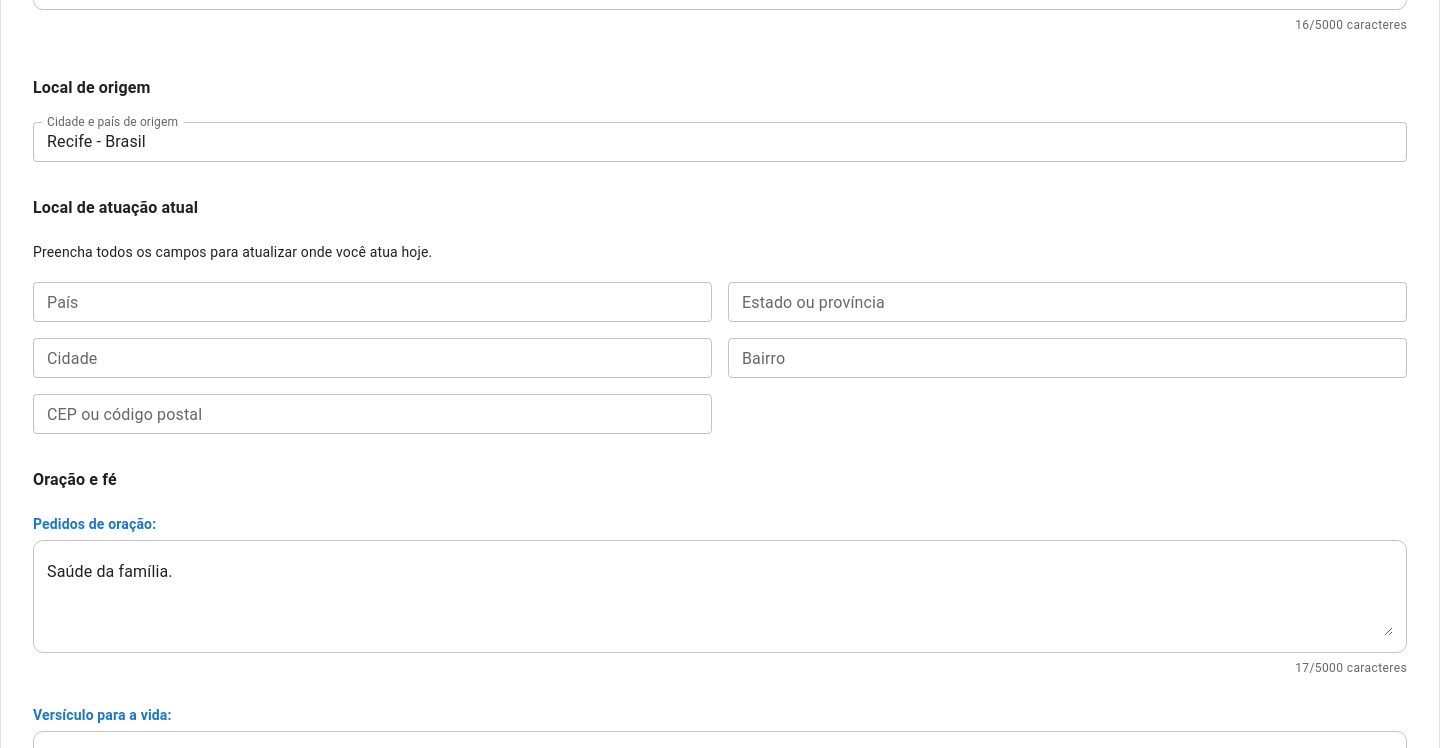
it: ProfileAboutEditSection › requires every work address field once one is filled
(page scrolled)
Type "Lisboa" into the field labelled "Cidade" at (372, 358), box [33, 338, 712, 378]
(page scrolled)
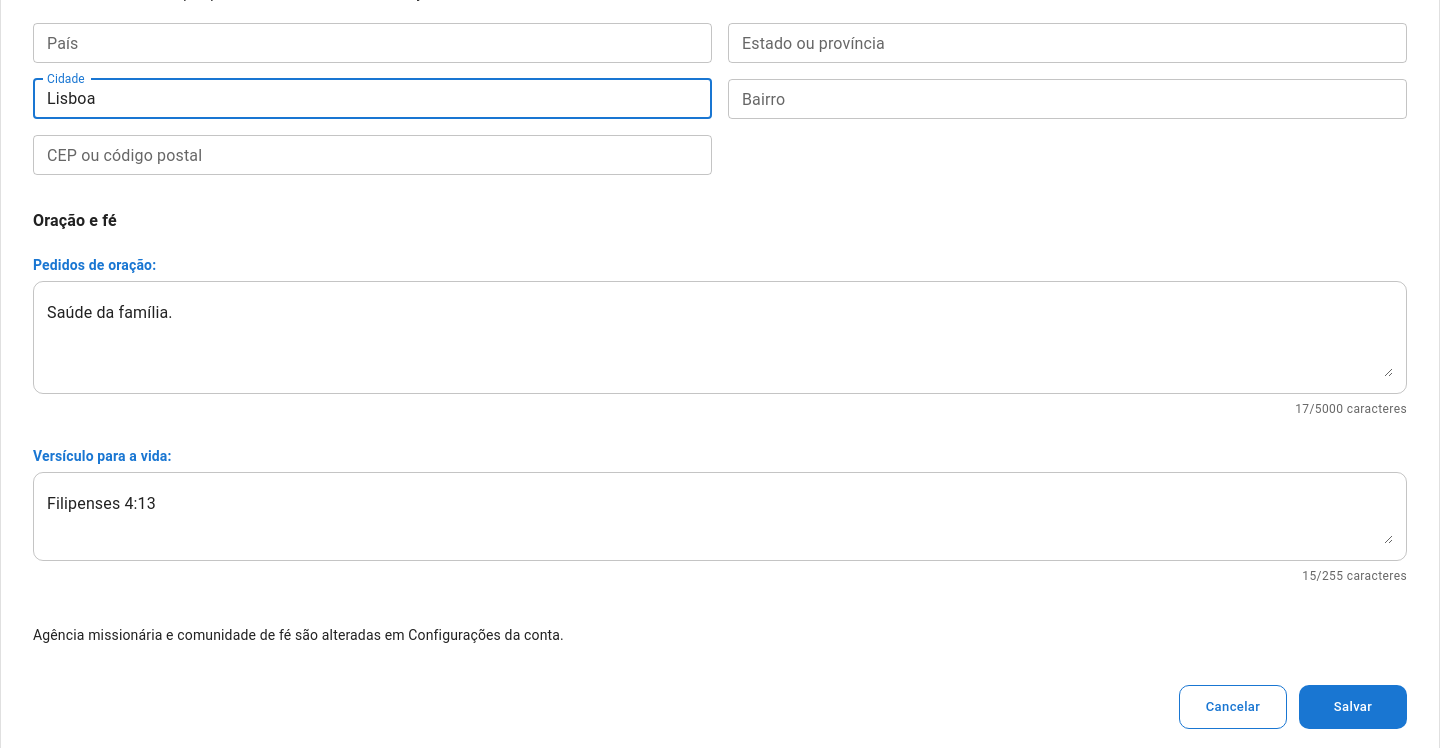
Click the button "Salvar" at (1353, 707), box [1299, 685, 1407, 729]
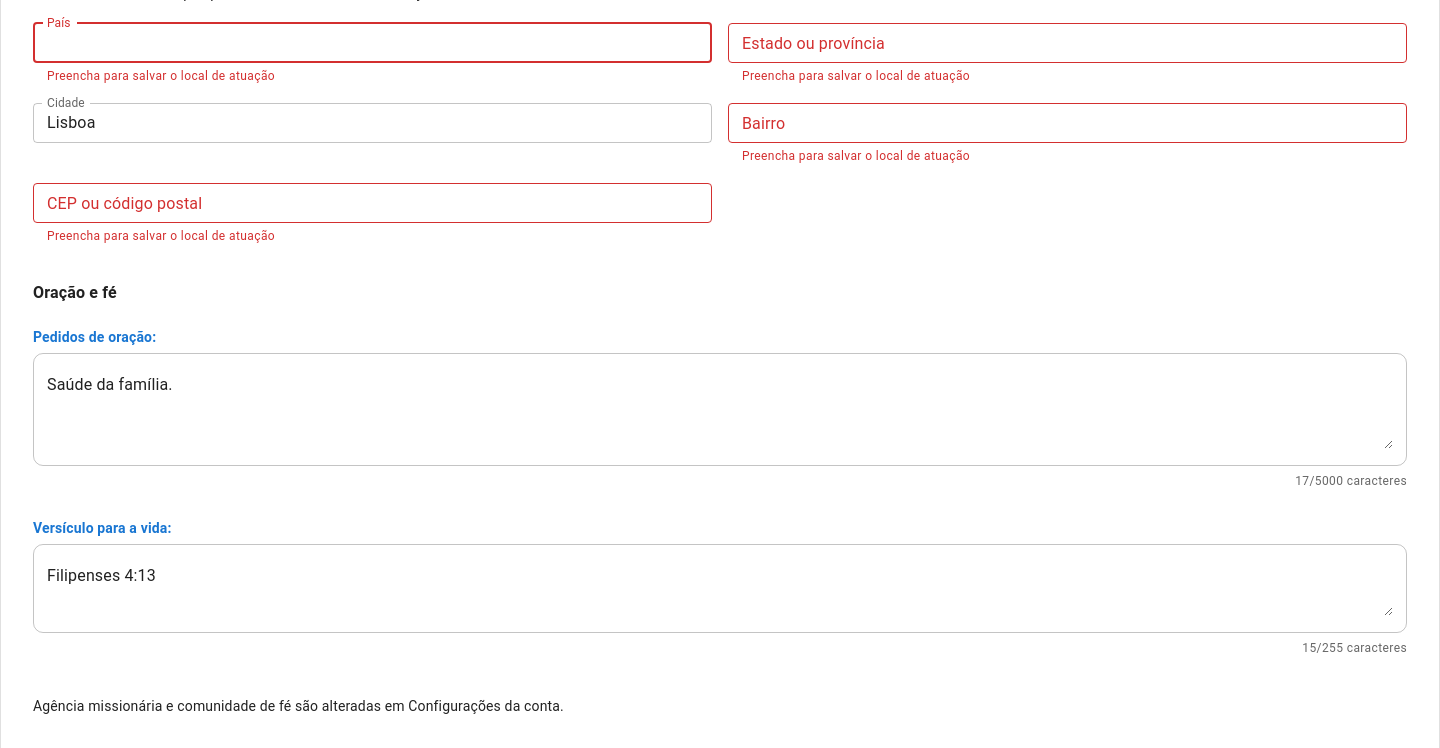
Now the text "Preencha para salvar o local de atuação" is shown 4 times, box [47, 69, 275, 83]; [742, 69, 970, 83]; [742, 149, 970, 163]; [47, 229, 275, 243]
